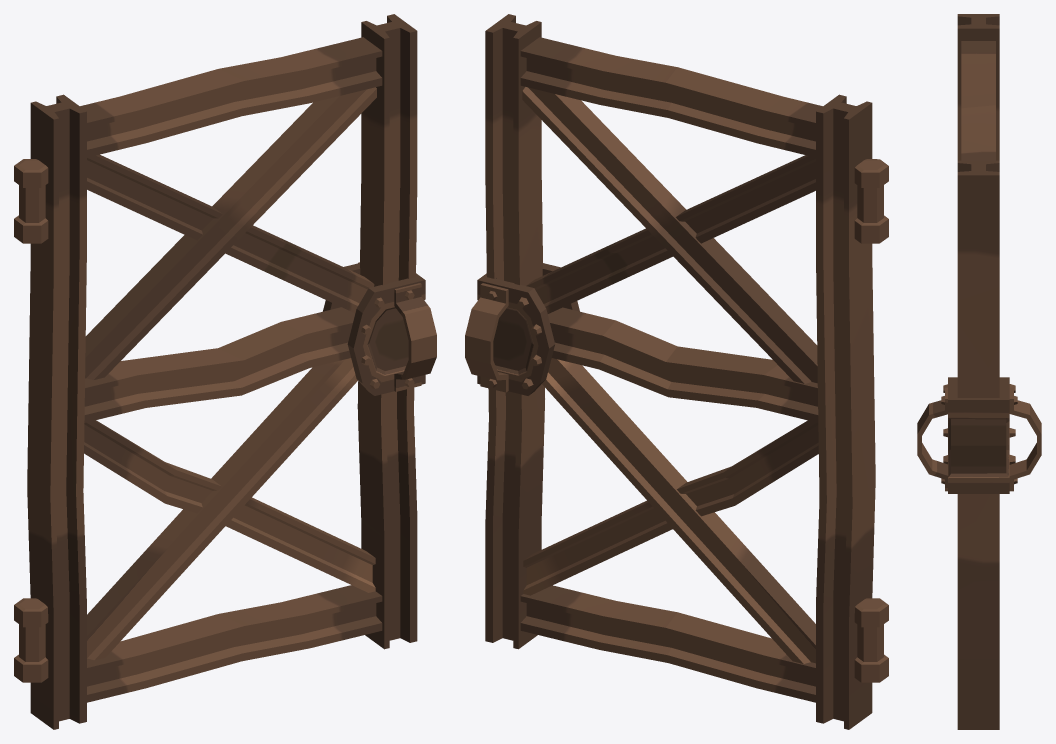
The model's file is SM_Prop_Fence_Gate_02_Door_01.obj.
The picture shows the model from 3 angles, left to right: view 1: azimuth 30°, elevation 25°; view 2: azimuth 150°, elevation 25°; view 3: azimuth 270°, elevation 25°; orthographic projection. The views are drawn at different scales.
Visible parts, largest first — view 1: SM_Prop_Fence_Gate_02_Door_01_0; view 2: SM_Prop_Fence_Gate_02_Door_01_0; view 3: SM_Prop_Fence_Gate_02_Door_01_0.
Boxes of the visible parts, left/top/right/bottom form: SM_Prop_Fence_Gate_02_Door_01_0: left=14, top=14, right=436, bottom=729; SM_Prop_Fence_Gate_02_Door_01_0: left=465, top=14, right=888, bottom=729; SM_Prop_Fence_Gate_02_Door_01_0: left=917, top=14, right=1041, bottom=729.
Bounding box in the file's own units: 1.16 × 1.74 × 0.3533.
Materials: 1 (1 with a texture image).
